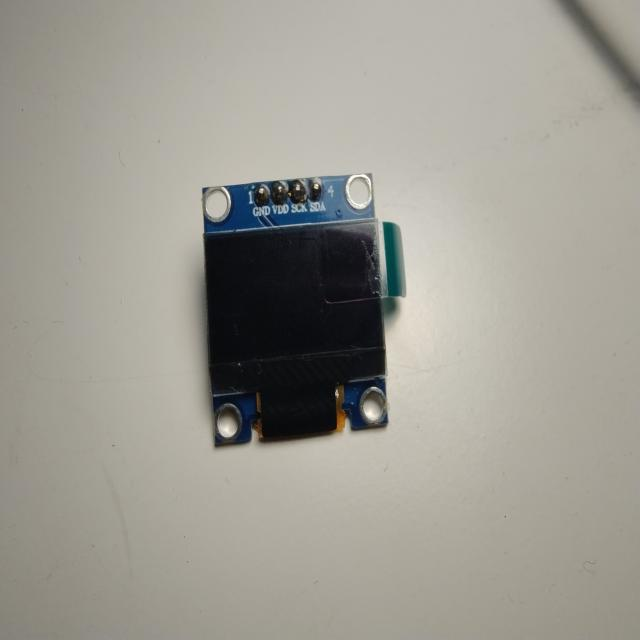oled: (194, 166, 420, 464)
